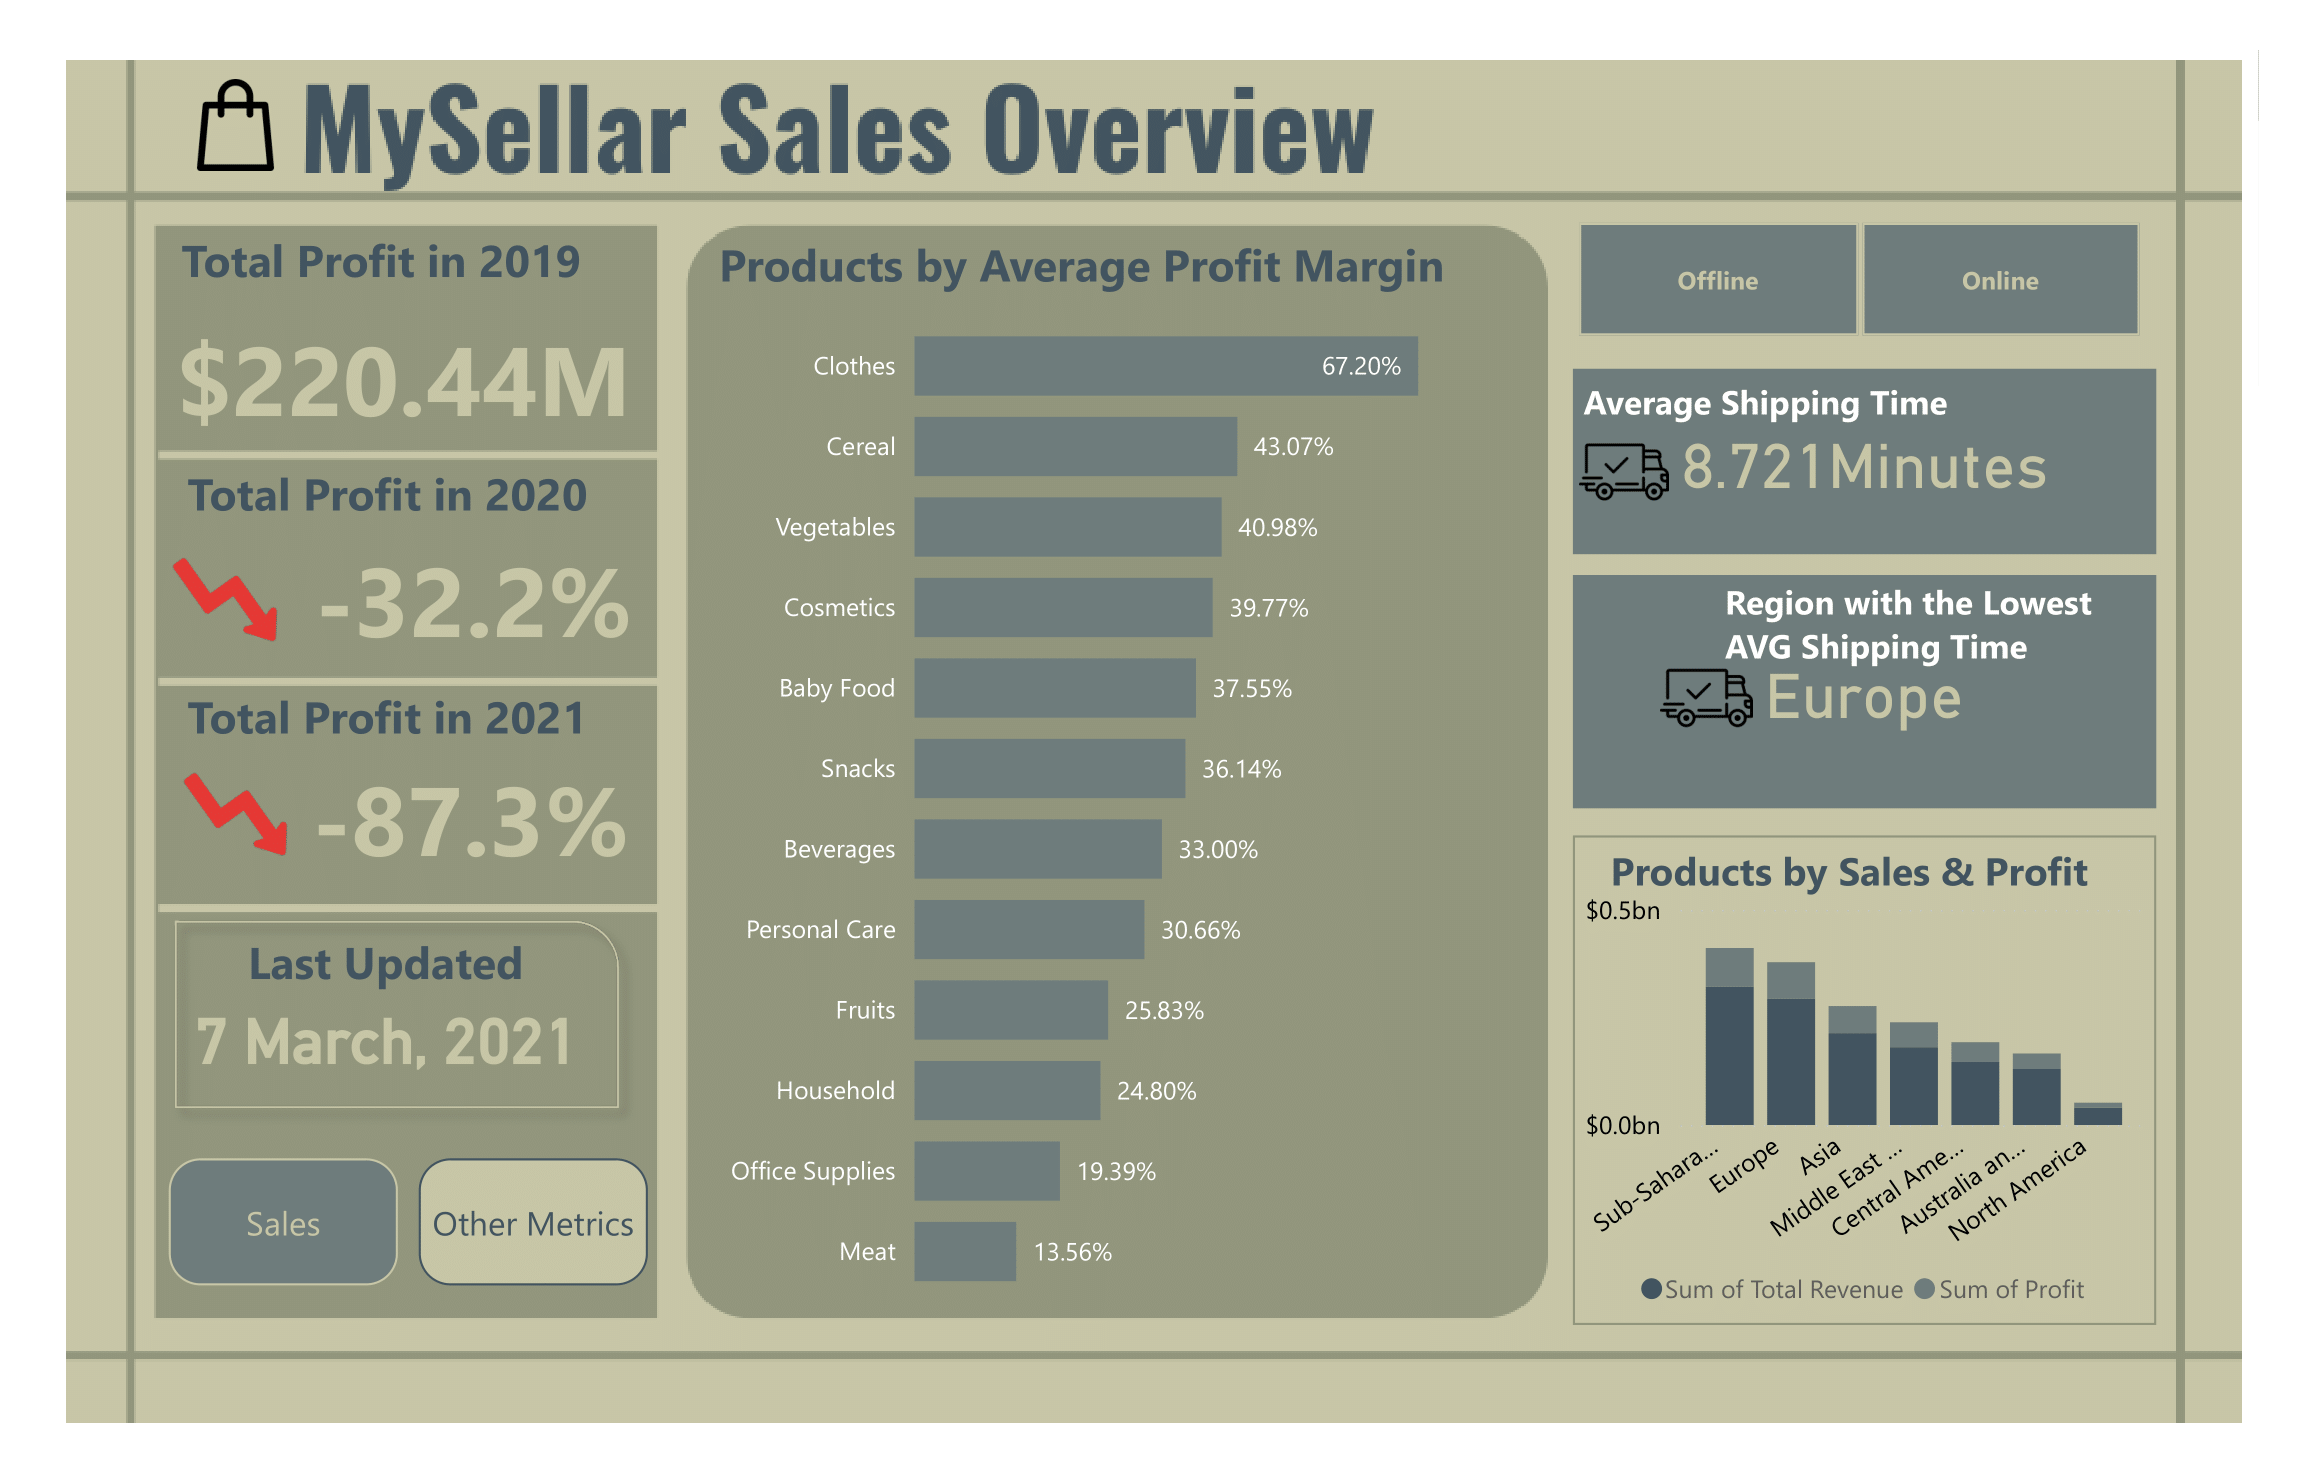

This screenshot's page, from the dashboard's own definition file:
{"tool":"powerbi","page":{"name":"Other Metrics","canvas":[1060,664],"ordinal":1},"visuals":[{"type":"image","title":"Layout 2","box":[0,0,1060,664],"z":0},{"type":"card","fields":{"Values":["Measures_.2019 Profit"]},"box":[53.3,124.5,233.3,65.3],"z":0,"group":"g3"},{"type":"group","id":"g1","title":"Average Shipping Time ","box":[730.7,153.3,280,89.3],"z":0,"group":"g5"},{"type":"card","fields":{"Values":["Measures_.Average Shipping Time"]},"box":[730.7,153.3,280,89.3],"z":0,"group":"g1"},{"type":"card","fields":{"Values":["Measures_.2020 Profit Decrease 2020"]},"box":[115.5,229.7,176.6,65.1],"z":0,"group":"g7"},{"type":"group","id":"g2","title":"Average Shipping Time ","box":[731,248.9,280,114.9],"z":0,"group":"g6"},{"type":"card","fields":{"Values":["Measures_.LowestAvgShippingTimeRegion"]},"box":[731,251.8,280,112],"z":0,"group":"g2"},{"type":"card","fields":{"Values":["Measures_.2021 Profit Decrease 2020"]},"box":[114.2,334.7,176.6,65.1],"z":0,"group":"g8"},{"type":"multiRowCard","fields":{"Values":["Measures_.Last Date Update"]},"box":[64,453.3,201.3,45.3],"z":0,"group":"g4"},{"type":"image","title":"Shop Icon 2","box":[40,9.3,97.3,53.3],"z":1000},{"type":"textbox","box":[58.2,81.5,223.1,46.5],"z":1000,"group":"g3"},{"type":"textbox","box":[730.7,153.3,216,36],"z":1000,"group":"g1"},{"type":"image","box":[718.7,176,73.3,53.3],"z":1000,"group":"g5"},{"type":"textbox","box":[799,248.9,212,57.3],"z":1000,"group":"g2"},{"type":"image","box":[757.8,284.1,73.3,53.3],"z":1000,"group":"g6"},{"type":"textbox","box":[89.4,418.6,153.3,48],"z":1000,"group":"g4"},{"type":"textbox","box":[61.1,192.6,255,39.8],"z":2000},{"type":"shape","box":[50.7,409.3,230.7,108],"z":2000,"group":"g4"},{"type":"textbox","box":[61.1,300.1,231.1,47.8],"z":3000},{"type":"textbox","title":"Bar Chart Title","box":[316,82.7,402.7,50.7],"z":4000},{"type":"clusteredBarChart","title":"Bar Charge AVG PM","fields":{"Category":["Orders.Category"],"Y":["Avg(Orders.Profit Margin)"]},"box":[314.7,108.9,393.1,503.3],"z":5000},{"type":"group","id":"g3","title":"Total Revenue","box":[53.3,81.5,233.3,108.3],"z":6000},{"type":"group","id":"g4","title":"Last Updated","box":[50.7,409.3,230.7,108],"z":7000},{"type":"group","id":"g5","title":"AVG Shipping Time","box":[718.7,153.3,292,89.3],"z":8000},{"type":"group","id":"g6","title":"AVG Shipping Time","box":[731,248.9,280,114.9],"z":9000},{"type":"columnChart","fields":{"Category":["Orders.Region"],"Y":["Sum(Orders.Total Revenue)","Sum(Orders.Profit)"]},"box":[730.7,377.3,280,234.7],"z":10000},{"type":"textbox","title":"Bar Chart Title","box":[744,376,266.7,42.7],"z":11000},{"type":"slicer","title":"Channel Slicer","fields":{"Values":["Orders.Sales Channel"]},"box":[708,76,318.7,68],"z":12000},{"type":"pageNavigator","box":[57.3,532,230.7,61.3],"z":13000},{"type":"image","box":[53.1,232.4,62.4,62.4],"z":13001,"group":"g7"},{"type":"image","box":[58.4,332,62.4,69.1],"z":13002,"group":"g8"},{"type":"group","id":"g7","title":"Group 1","box":[53.1,229.7,239,65.1],"z":14000},{"type":"group","id":"g8","title":"Group 2","box":[58.4,332,232.4,69.1],"z":15000}]}

Visuals, with their boxes on the page's 1060x664 design canvas (x1, y1, x2, y2). These are canvas units, not pixel positions in the 2308x1484 screenshot, which may show the page scaled, cropped or inside an application window:
"Layout 2" image: <box>0,0,1060,664</box>
card - Measures_.2019 Profit: <box>53,124,287,190</box>
"Average Shipping Time " group: <box>731,153,1011,243</box>
card - Measures_.Average Shipping Time: <box>731,153,1011,243</box>
card - Measures_.2020 Profit Decrease 2020: <box>116,230,292,295</box>
"Average Shipping Time " group: <box>731,249,1011,364</box>
card - Measures_.LowestAvgShippingTimeRegion: <box>731,252,1011,364</box>
card - Measures_.2021 Profit Decrease 2020: <box>114,335,291,400</box>
multiRowCard - Measures_.Last Date Update: <box>64,453,265,499</box>
"Shop Icon 2" image: <box>40,9,137,63</box>
textbox: <box>58,82,281,128</box>
textbox: <box>731,153,947,189</box>
image: <box>719,176,792,229</box>
textbox: <box>799,249,1011,306</box>
image: <box>758,284,831,337</box>
textbox: <box>89,419,243,467</box>
textbox: <box>61,193,316,232</box>
shape: <box>51,409,281,517</box>
textbox: <box>61,300,292,348</box>
"Bar Chart Title" textbox: <box>316,83,719,133</box>
"Bar Charge AVG PM" clusteredBarChart: <box>315,109,708,612</box>
"Total Revenue" group: <box>53,82,287,190</box>
"Last Updated" group: <box>51,409,281,517</box>
"AVG Shipping Time" group: <box>719,153,1011,243</box>
"AVG Shipping Time" group: <box>731,249,1011,364</box>
columnChart - Orders.Region x Sum(Orders.Total Revenue): <box>731,377,1011,612</box>
"Bar Chart Title" textbox: <box>744,376,1011,419</box>
"Channel Slicer" slicer: <box>708,76,1027,144</box>
pageNavigator: <box>57,532,288,593</box>
image: <box>53,232,116,295</box>
image: <box>58,332,121,401</box>
"Group 1" group: <box>53,230,292,295</box>
"Group 2" group: <box>58,332,291,401</box>
